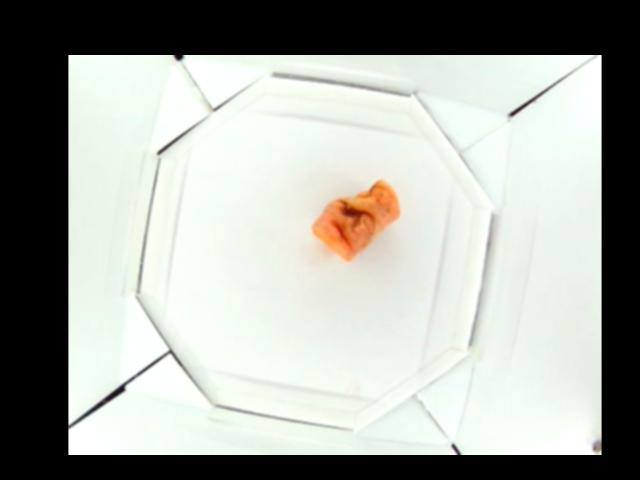Carrot: (313, 180, 400, 262)
